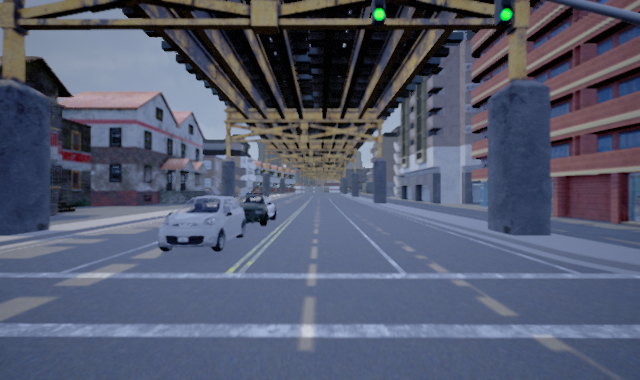traffic_light: (494, 1, 515, 33), (369, 1, 388, 26)
vehicle: (157, 195, 250, 253), (218, 193, 276, 228)
